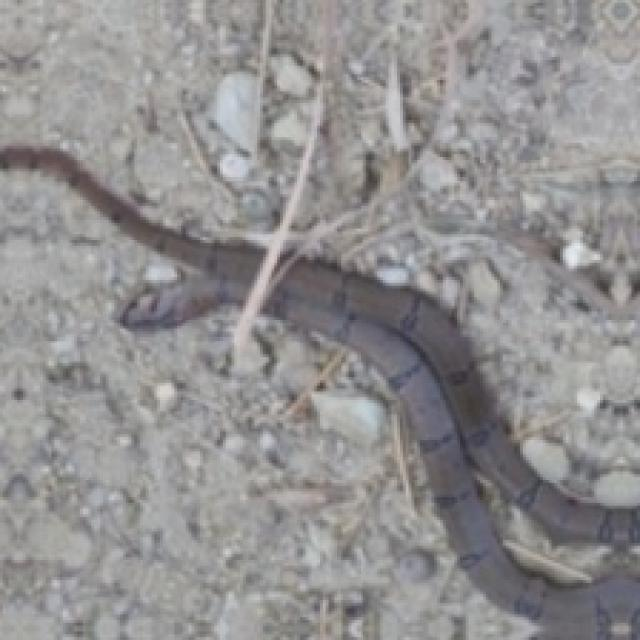northern short-headed snake: (266, 260, 637, 637), (0, 146, 260, 300), (120, 276, 220, 329)
